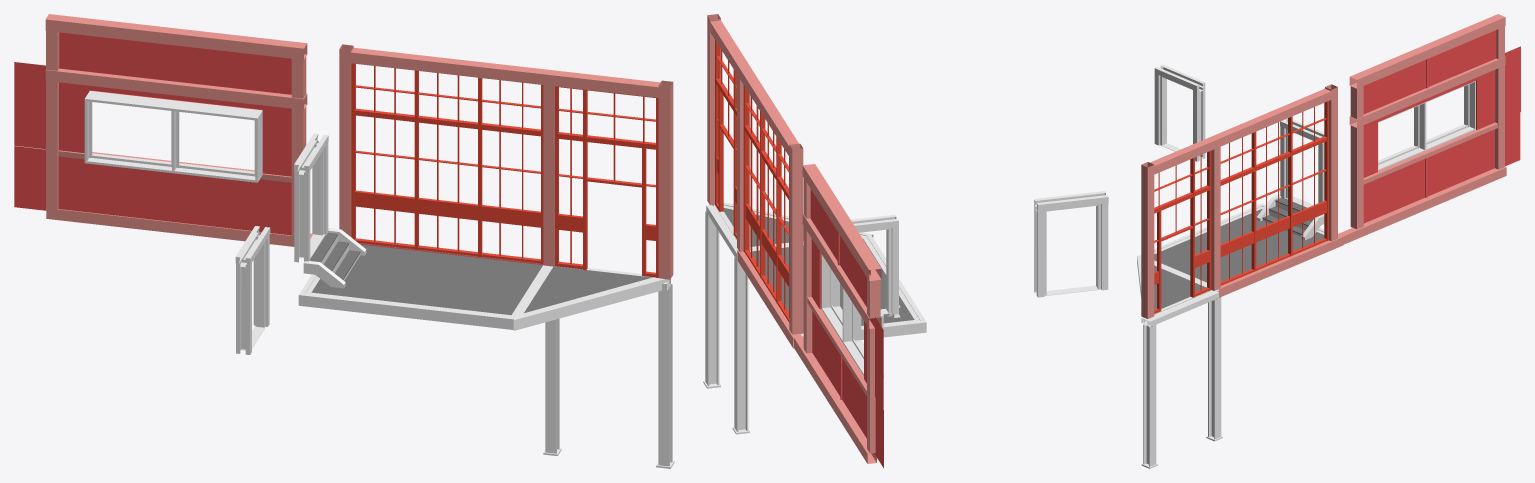
File: SM_H_Building_Tide_Jail_Monitor_01_ATLAS.fbx
The picture shows the model from 3 angles, left to right: view 1: azimuth 30°, elevation 25°; view 2: azimuth 150°, elevation 25°; view 3: azimuth 270°, elevation 25°; orthographic projection. The views are drawn at different scales.
Visible parts, largest first — view 1: SM_H_Building_Tide_Jail_Monitor_01_ATLAS; view 2: SM_H_Building_Tide_Jail_Monitor_01_ATLAS; view 3: SM_H_Building_Tide_Jail_Monitor_01_ATLAS.
Boxes of the visible parts, box(x1,y1,x2,y2) form: SM_H_Building_Tide_Jail_Monitor_01_ATLAS: box(14, 14, 674, 468); SM_H_Building_Tide_Jail_Monitor_01_ATLAS: box(703, 14, 1108, 468); SM_H_Building_Tide_Jail_Monitor_01_ATLAS: box(1137, 14, 1520, 468).
Size of the model in its own units: 1269 by 1248 by 1078.
